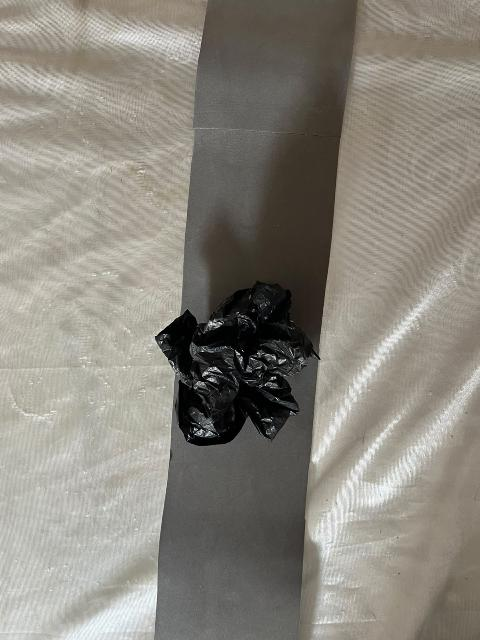LDPE: (85, 247, 404, 531)
